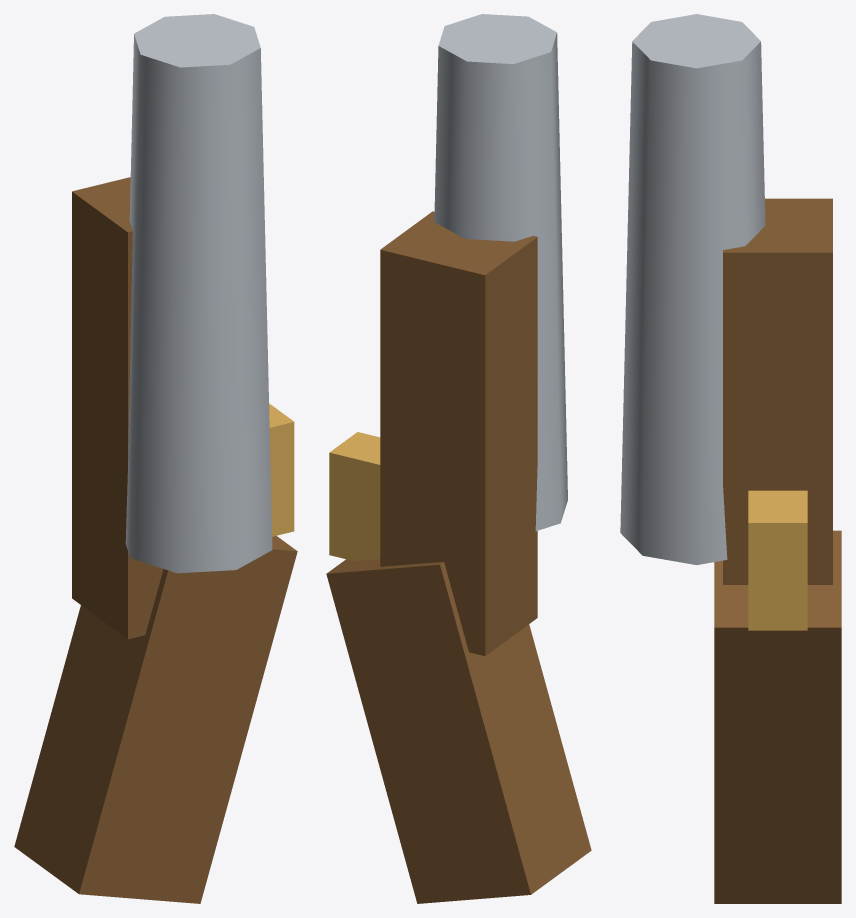
Rendered from pirate-pistol.glb.
3 views of the same model, side by side, from view 1: azimuth 30°, elevation 25°; view 2: azimuth 150°, elevation 25°; view 3: azimuth 270°, elevation 25° (orthographic). The views are drawn at different scales.
Parts seen in each view (by area): view 1: Barrel, Stock, Forestock, Lock; view 2: Forestock, Stock, Barrel, Lock; view 3: Barrel, Stock, Forestock, Lock.
Boxes of the visible parts, left/top/right/bottom form: Barrel: left=125, top=14, right=272, bottom=573; Stock: left=14, top=536, right=297, bottom=903; Forestock: left=72, top=177, right=163, bottom=639; Lock: left=269, top=403, right=294, bottom=536; Forestock: left=380, top=211, right=537, bottom=655; Stock: left=326, top=559, right=591, bottom=903; Barrel: left=434, top=14, right=567, bottom=531; Lock: left=329, top=432, right=380, bottom=560; Barrel: left=620, top=14, right=765, bottom=565; Stock: left=714, top=530, right=841, bottom=903; Forestock: left=723, top=198, right=832, bottom=584; Lock: left=748, top=490, right=807, bottom=630.
Bounding box in the file's own units: 0.1556 × 0.5576 × 0.1305.
